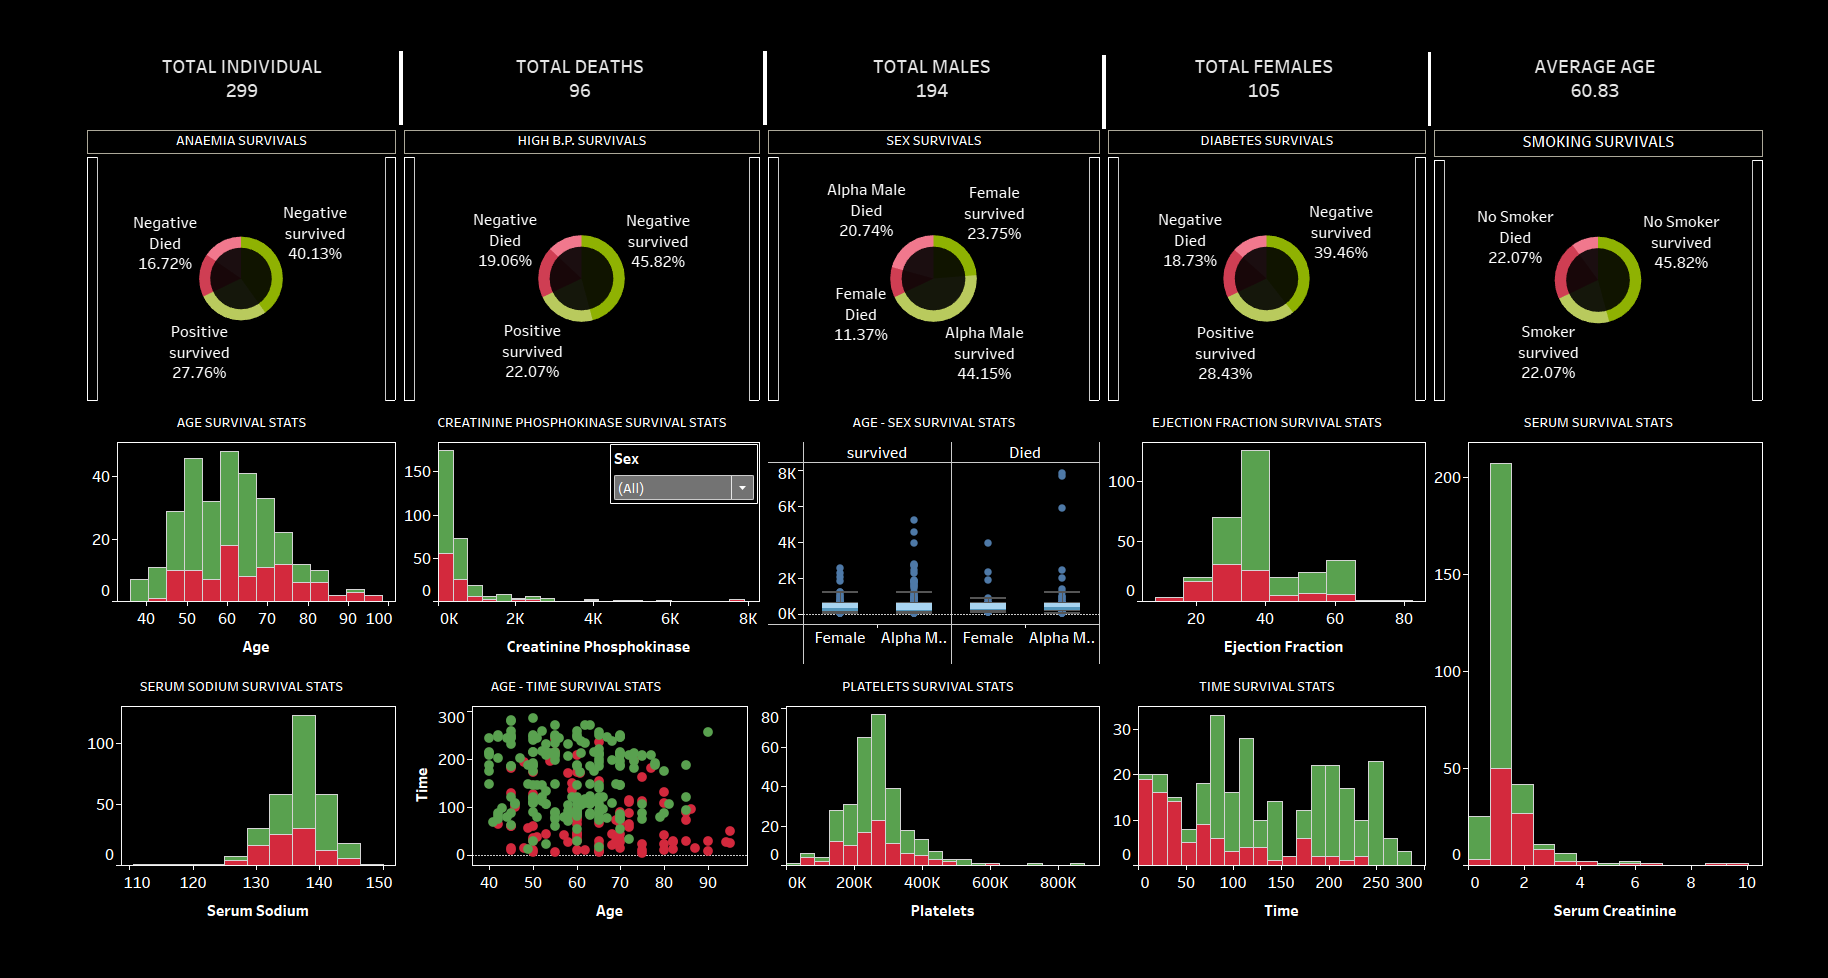

The page's visual inventory and layout, read from the dashboard file:
{"tool":"tableau","page":{"name":"Dashboard 1","canvas":[1700,900],"ordinal":0},"visuals":[{"type":"worksheet","title":"Sheet 15","mark":"Automatic","box":[8,8,317.1,77]},{"type":"worksheet","title":"Sheet 15 (2)","mark":"Automatic","box":[325.1,8,363.5,77]},{"type":"worksheet","title":"Sheet 15 (3)","mark":"Automatic","box":[688.7,8,340.3,77]},{"type":"worksheet","title":"Sheet 15 (4)","mark":"Automatic","box":[1029,8,326,77]},{"type":"worksheet","title":"Sheet 15 (5)","mark":"Automatic","box":[1355,8,337,77]},{"type":"blank","box":[324,10,4,74]},{"type":"blank","box":[688,10,4,74]},{"type":"blank","box":[1353,11,3,74]},{"type":"blank","box":[1027,14,4,74]},{"type":"worksheet","title":"Sheet 1","mark":"Pie","rows":["Calculation_367324852648255489","Calculation_367324852648255489"],"box":[8,85,317.1,279]},{"type":"worksheet","title":"Sheet 1 (3)","mark":"Pie","rows":["Calculation_367324852648255489","Calculation_367324852648255489"],"box":[325.1,85,363.5,279]},{"type":"worksheet","title":"Sheet 1 (4)","mark":"Pie","rows":["Calculation_367324852648255489","Calculation_367324852648255489"],"box":[688.7,85,340.3,279]},{"type":"worksheet","title":"Sheet 1 (2)","mark":"Pie","rows":["Calculation_367324852648255489","Calculation_367324852648255489"],"box":[1029,85,326,279]},{"type":"worksheet","title":"Sheet 1 (5)","mark":"Pie","rows":["Calculation_367324852648255489","Calculation_367324852648255489"],"box":[1355,85,337,279]},{"type":"worksheet","title":"Sheet 6","mark":"Automatic","rows":["age"],"cols":["Age (bin)"],"box":[8,364,317.1,264]},{"type":"worksheet","title":"Sheet 6 (2)","mark":"Automatic","rows":["creatinine_phosphokinase"],"cols":["Creatinine Phosphokinase (bin)"],"box":[325.1,364,363.5,264]},{"type":"worksheet","title":"Sheet 6 (9)","mark":"Circle","rows":["creatinine_phosphokinase"],"cols":["DEATH_EVENT","sex"],"box":[688.7,364,340.3,264]},{"type":"worksheet","title":"Sheet 6 (3)","mark":"Automatic","rows":["ejection_fraction"],"cols":["Ejection Fraction (bin)"],"box":[1029,364,326,264]},{"type":"worksheet","title":"Sheet 6 (5)","mark":"Automatic","rows":["serum_creatinine"],"cols":["Serum Creatinine (bin)"],"box":[1355,364,337,528]},{"type":"filter","title":"Sheet 6 (9)","param":"[federated.1nhn51t0843p2o0zyvabq0fxfgka].[none:sex:ok]","box":[535,403,148,60]},{"type":"worksheet","title":"Sheet 6 (6)","mark":"Automatic","rows":["serum_sodium"],"cols":["Serum Sodium (bin)"],"box":[8,628,317.1,264]},{"type":"worksheet","title":"Sheet 6 (8)","mark":"Automatic","rows":["time"],"cols":["age"],"box":[325.1,628,351.9,264]},{"type":"worksheet","title":"Sheet 6 (4)","mark":"Automatic","rows":["platelets"],"cols":["Platelets (bin)"],"box":[677,628,351.9,264]},{"type":"worksheet","title":"Sheet 6 (7)","mark":"Automatic","rows":["time"],"cols":["Time (bin)"],"box":[1029,628,326,264]}]}

Visuals, with their boxes in screenshot pixels (x1, y1, x2, y2), scaled from the page's 1700x900 canvas onto the 1828x978 screenshot:
"Sheet 15" worksheet: [9,9,350,92]
"Sheet 15 (2)" worksheet: [350,9,740,92]
"Sheet 15 (3)" worksheet: [741,9,1106,92]
"Sheet 15 (4)" worksheet: [1106,9,1457,92]
"Sheet 15 (5)" worksheet: [1457,9,1819,92]
blank: [348,11,353,91]
blank: [740,11,744,91]
blank: [1455,12,1458,92]
blank: [1104,15,1109,96]
"Sheet 1" worksheet (Pie marks): [9,92,350,396]
"Sheet 1 (3)" worksheet (Pie marks): [350,92,740,396]
"Sheet 1 (4)" worksheet (Pie marks): [741,92,1106,396]
"Sheet 1 (2)" worksheet (Pie marks): [1106,92,1457,396]
"Sheet 1 (5)" worksheet (Pie marks): [1457,92,1819,396]
"Sheet 6" worksheet: [9,396,350,682]
"Sheet 6 (2)" worksheet: [350,396,740,682]
"Sheet 6 (9)" worksheet (Circle marks): [741,396,1106,682]
"Sheet 6 (3)" worksheet: [1106,396,1457,682]
"Sheet 6 (5)" worksheet: [1457,396,1819,969]
"Sheet 6 (9)" filter: [575,438,734,503]
"Sheet 6 (6)" worksheet: [9,682,350,969]
"Sheet 6 (8)" worksheet: [350,682,728,969]
"Sheet 6 (4)" worksheet: [728,682,1106,969]
"Sheet 6 (7)" worksheet: [1106,682,1457,969]
